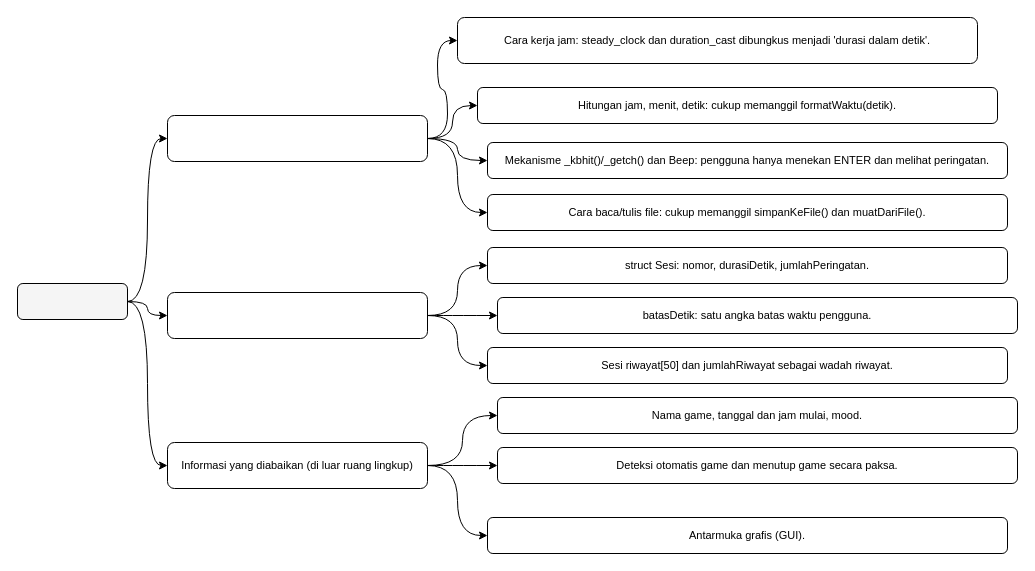
Image size: 1035x571. Some labels were removed from this diagram. The shapes that lost their labels are listed below. From the top down, each one's centre as x and y in pixels, then its label:
At pixel 297 138: "Detail yang disembunyikan (abstraksi prosedur)".
At pixel 72 301: "Abstraksi".
At pixel 297 315: "Informasi yang dipertahankan (abstraksi data)".
